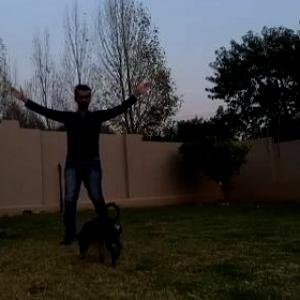takeoff: (1, 68, 150, 258)
